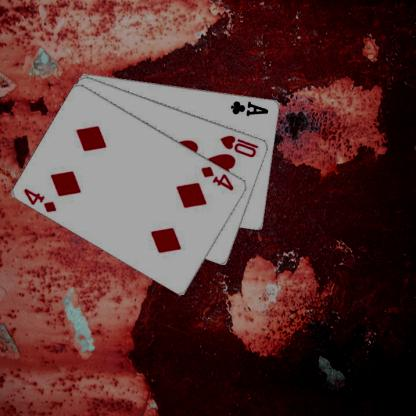10H: (218, 132, 260, 158)
4D: (199, 163, 235, 192), (22, 186, 58, 214)
AC: (228, 98, 270, 117)
